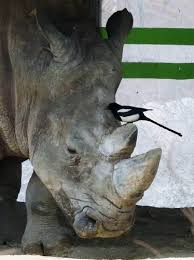Rhinoceros: (7, 2, 182, 250)
